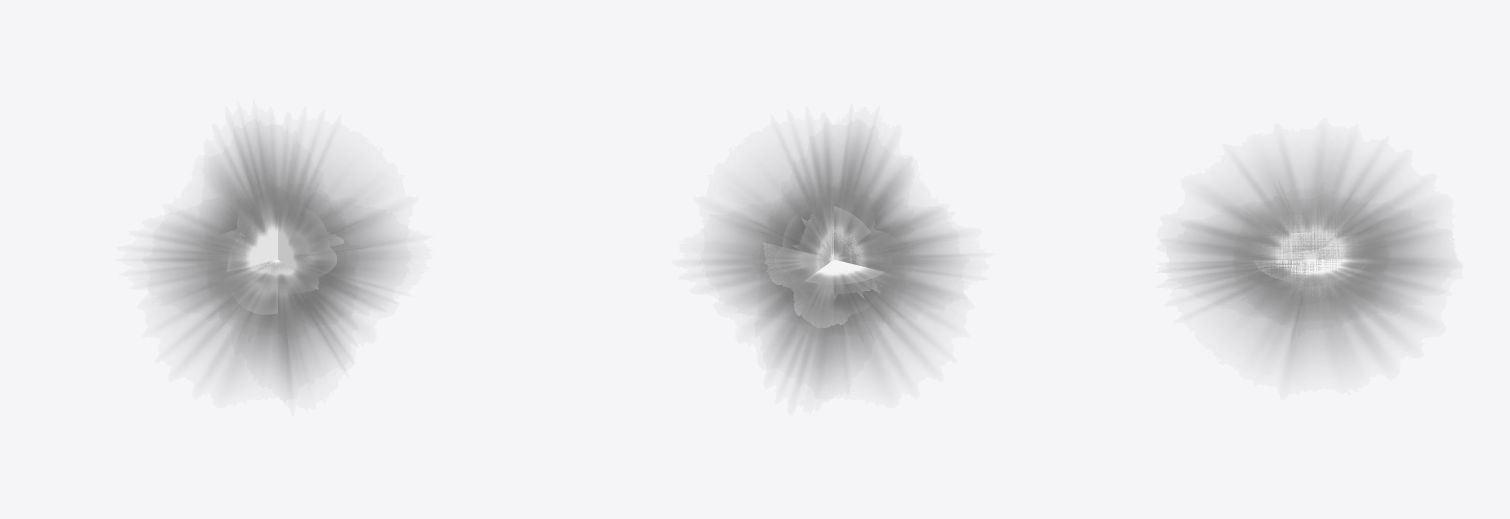
Rendered from si_eeb_0101.glb.
3 views of the same model, side by side, from view 1: azimuth 30°, elevation 25°; view 2: azimuth 150°, elevation 25°; view 3: azimuth 270°, elevation 25° (orthographic). The views are drawn at different scales.
Parts seen in each view (by area): view 1: layer_01_si_est_0003; view 2: layer_01_si_est_0003, layer_00_si_est_0000, layer_02_si_est_0100; view 3: layer_01_si_est_0003, layer_00_si_est_0000, layer_02_si_est_0100.
Boxes of the visible parts, bbox=[...] form: layer_01_si_est_0003: bbox=[144, 126, 403, 391]; layer_01_si_est_0003: bbox=[702, 130, 962, 387]; layer_00_si_est_0000: bbox=[783, 212, 880, 308]; layer_02_si_est_0100: bbox=[793, 224, 869, 303]; layer_01_si_est_0003: bbox=[1177, 149, 1444, 367]; layer_00_si_est_0000: bbox=[1265, 220, 1345, 312]; layer_02_si_est_0100: bbox=[1270, 259, 1320, 275].
Bounding box in the file's own units: 30 × 30 × 30.
Materials: 3 (3 with a texture image).
